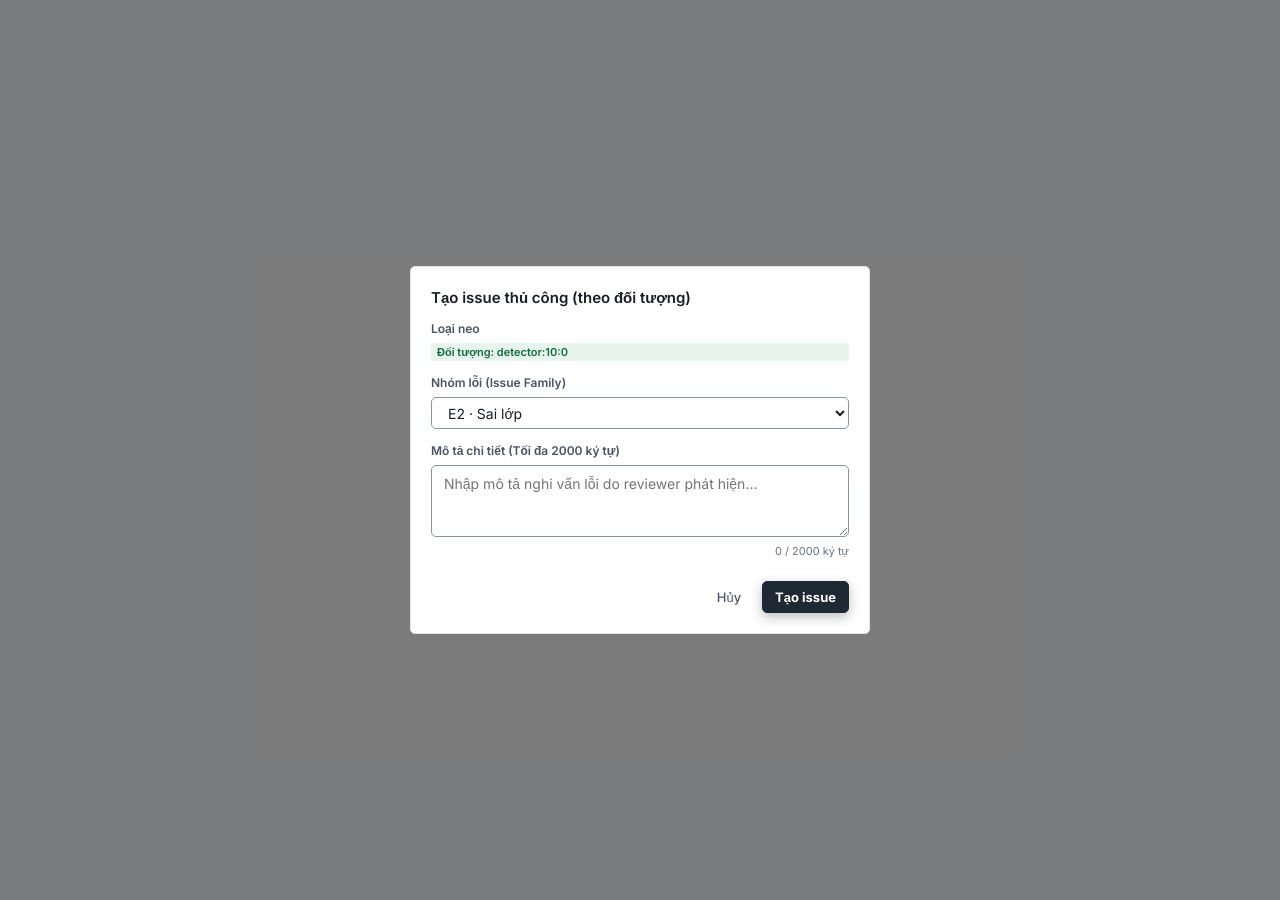
Scenario: T-035 PR130 Interface Integration Tests (T-037 Preparation) › ReviewManualIssueModal validations › rejects non-cvat_shape object namespace (e.g. detector)
Click the button "Tạo issue": (806, 597) [762,581,849,613]
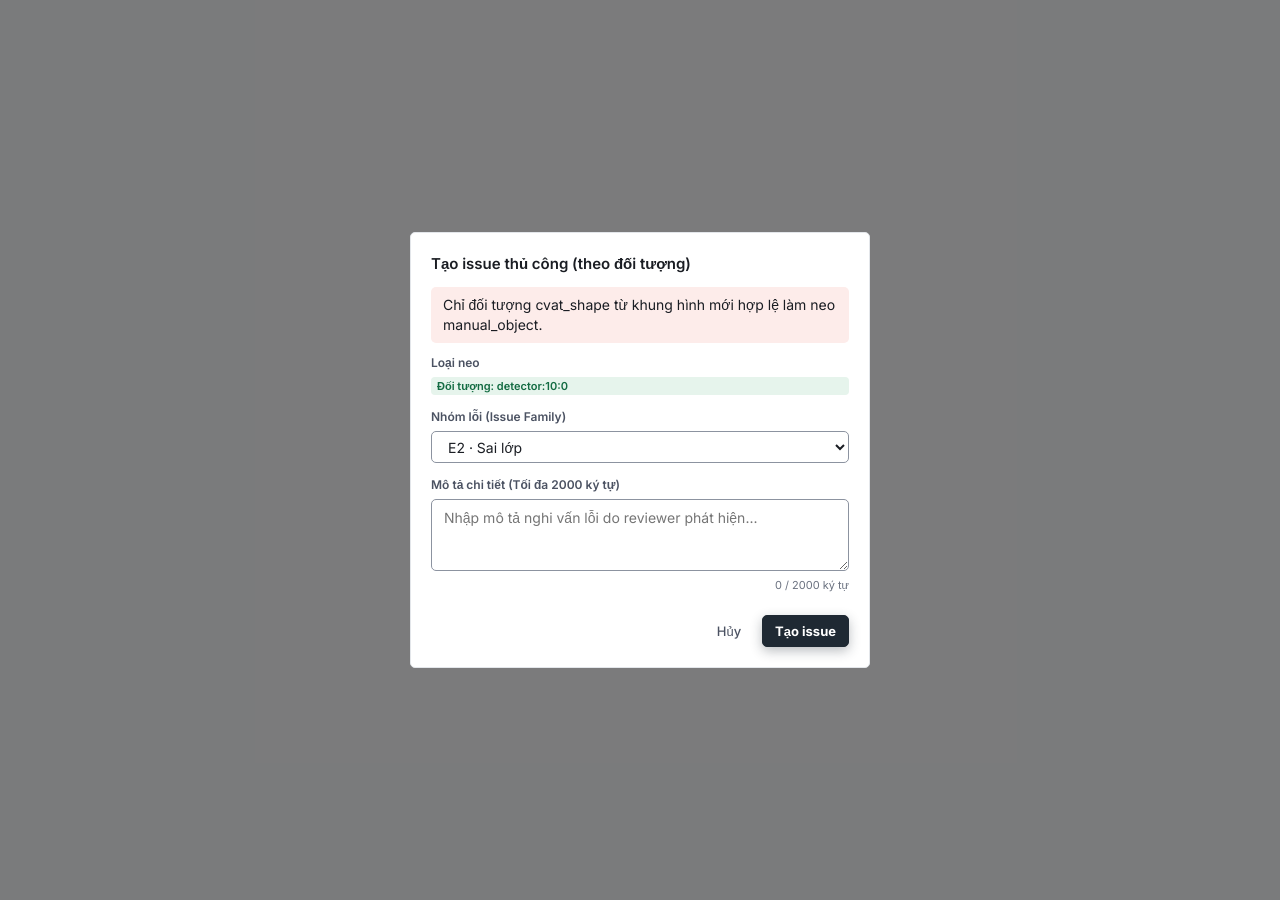
Check: the text "Chỉ đối tượng cvat_shape từ khung hình mới hợp lệ làm neo manual_object" is shown, box [443,296,835,333]
